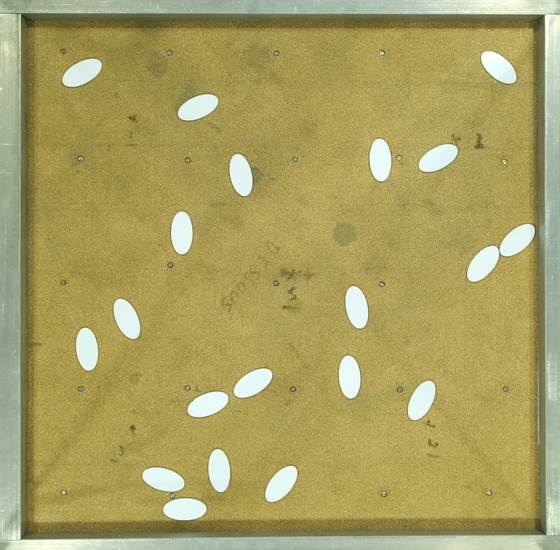pallet: (59, 48, 106, 96), (60, 326, 107, 374), (497, 213, 544, 261), (455, 236, 502, 284), (333, 281, 380, 329), (102, 295, 149, 343), (159, 208, 206, 256), (415, 129, 462, 177), (472, 43, 519, 91), (357, 137, 404, 185), (214, 150, 261, 198), (173, 79, 220, 127), (140, 453, 187, 501), (258, 458, 305, 506), (198, 444, 245, 492), (328, 353, 375, 401), (398, 375, 445, 423), (182, 382, 229, 430), (232, 358, 279, 406), (163, 486, 210, 534)
